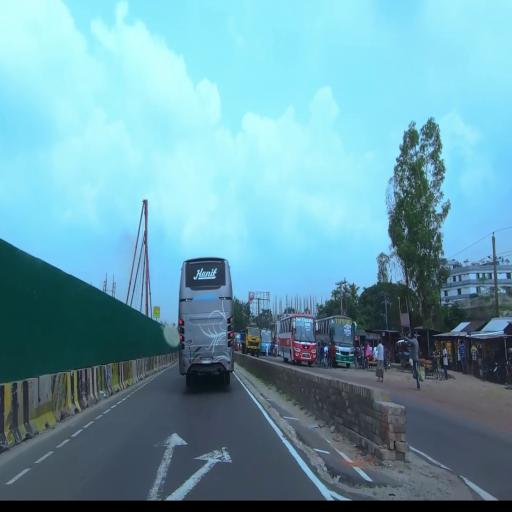bus: (179, 258, 235, 387), (318, 315, 358, 368), (280, 314, 317, 365), (261, 328, 274, 355), (235, 332, 241, 351)
motorbike: (494, 350, 512, 384), (387, 354, 393, 369)
truck: (241, 324, 261, 358)
